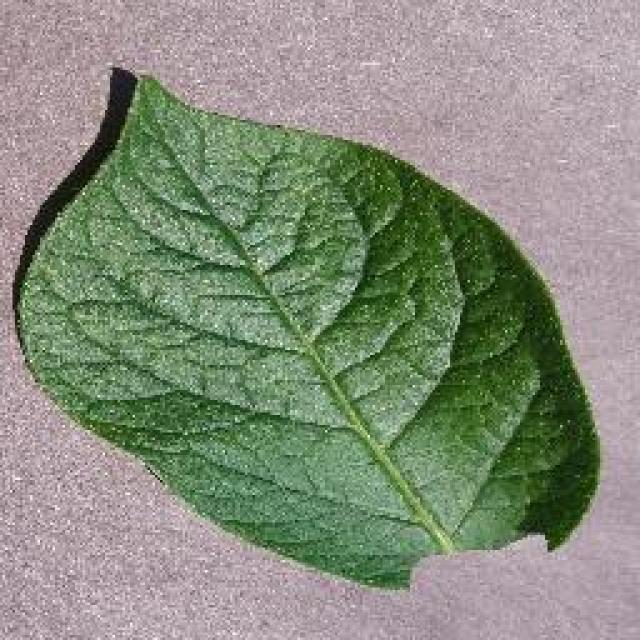healthy: (10, 62, 605, 598)
